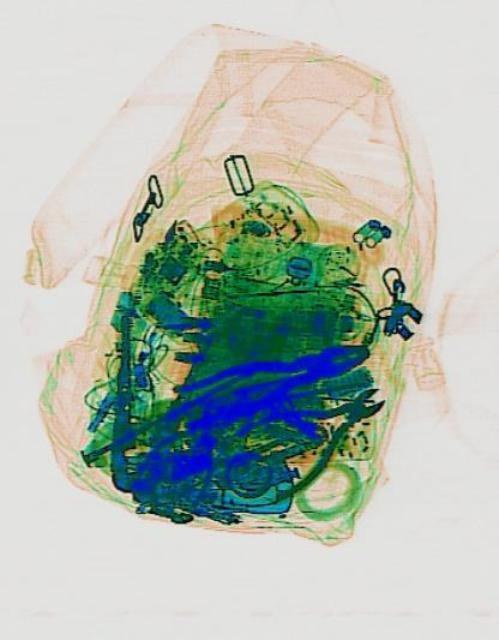Pliers: (234, 355, 397, 505), (170, 323, 373, 433)
